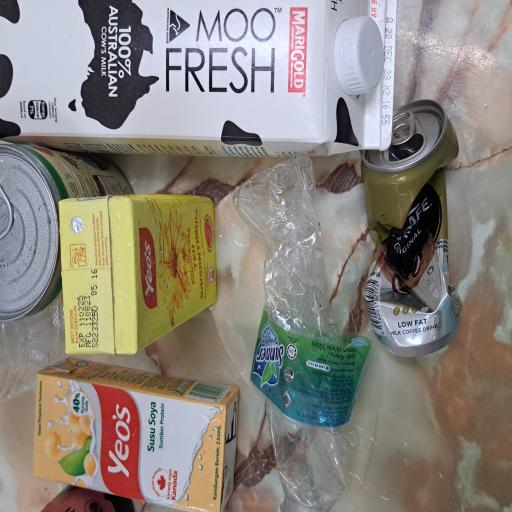can: (141, 0, 276, 179), (116, 480, 310, 512)
drink carton: (266, 0, 384, 512), (0, 42, 117, 319), (117, 78, 238, 290)
plastic bottle: (0, 309, 268, 496)
pop tab: (203, 0, 246, 19)
